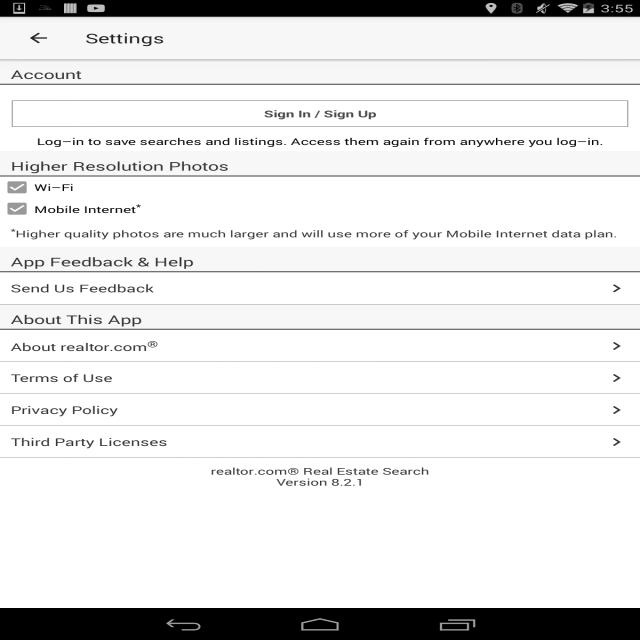Button: (12, 100, 628, 127), (439, 25, 632, 51)
CheckBox: (0, 198, 146, 219), (0, 177, 79, 198)
ImageButton: (542, 501, 640, 575), (550, 460, 632, 523), (21, 24, 80, 67), (9, 17, 68, 59), (581, 329, 640, 366), (581, 503, 640, 540)
ImageView: (0, 329, 640, 502), (0, 503, 640, 640), (242, 556, 398, 604), (14, 551, 78, 566), (123, 456, 140, 466), (510, 31, 517, 37)
TextView: (0, 458, 640, 495), (0, 272, 640, 304), (0, 330, 640, 362), (0, 362, 640, 394), (0, 394, 640, 426), (0, 426, 640, 458), (0, 219, 640, 247), (0, 59, 640, 85), (0, 151, 640, 177), (0, 304, 640, 330), (0, 247, 640, 272), (5, 134, 635, 151), (107, 472, 640, 485), (10, 302, 458, 315), (444, 31, 517, 60), (17, 488, 198, 499), (27, 449, 118, 468), (517, 29, 568, 62), (568, 29, 619, 62), (98, 38, 212, 52), (86, 29, 164, 47), (560, 302, 630, 315), (140, 455, 200, 467), (17, 472, 46, 485), (57, 472, 86, 485), (17, 451, 27, 465), (94, 472, 99, 485)
